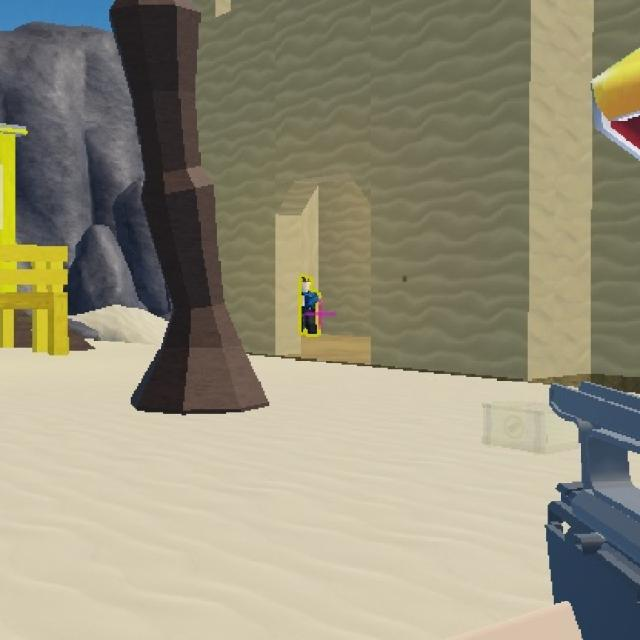player: (298, 278, 327, 340)
